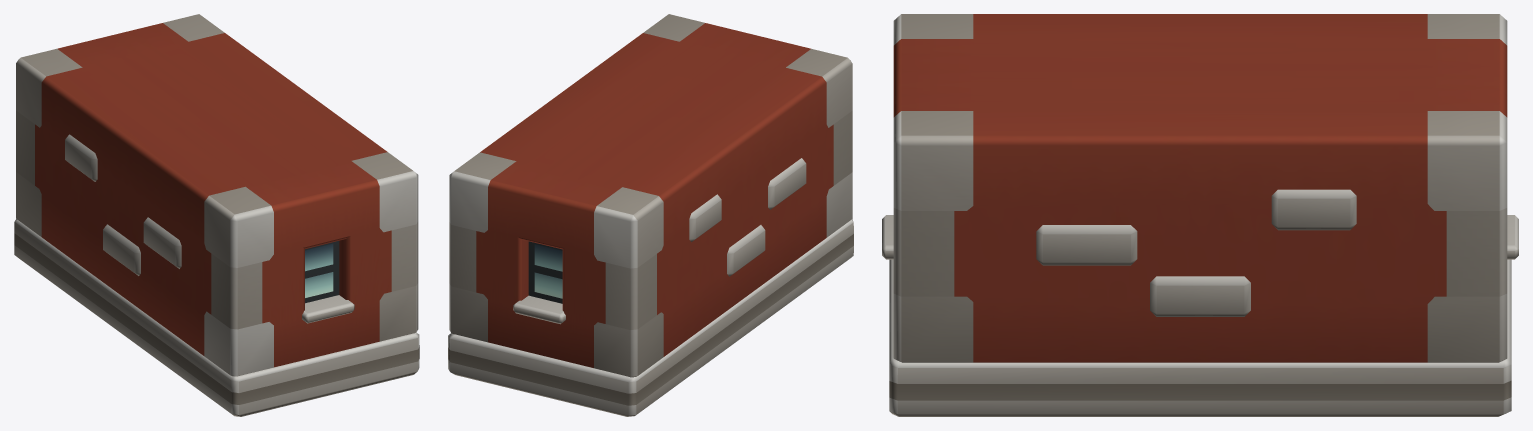
The model's file is appartment_type1_x2_element_red.fbx.
3 renders of one model, left to right at view 1: azimuth 30°, elevation 25°; view 2: azimuth 150°, elevation 25°; view 3: azimuth 270°, elevation 25°, orthographic. The views are drawn at different scales.
Parts seen in each view (by area): view 1: appartment_type1_x2_element_red; view 2: appartment_type1_x2_element_red; view 3: appartment_type1_x2_element_red.
Part boxes in pixels (x1,y1,x2,y2): appartment_type1_x2_element_red: (14, 14, 419, 416); appartment_type1_x2_element_red: (448, 14, 853, 416); appartment_type1_x2_element_red: (882, 14, 1518, 416).
Size of the model in its own units: 419 by 409 by 841.
